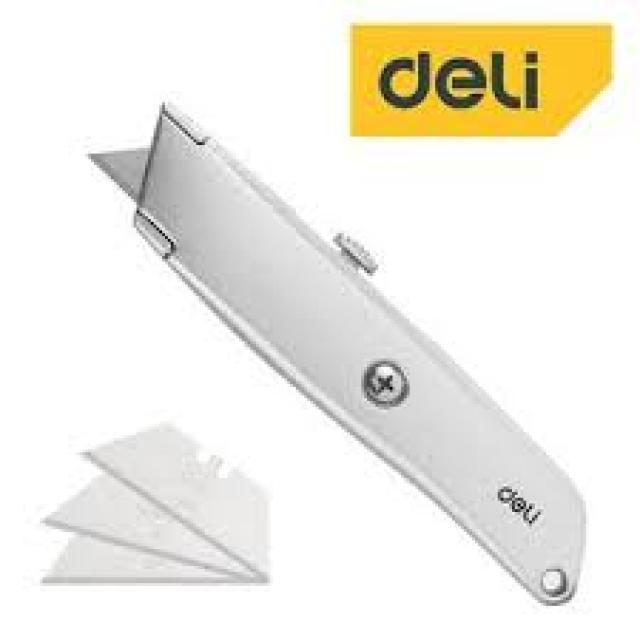cutter: (80, 88, 592, 610)
